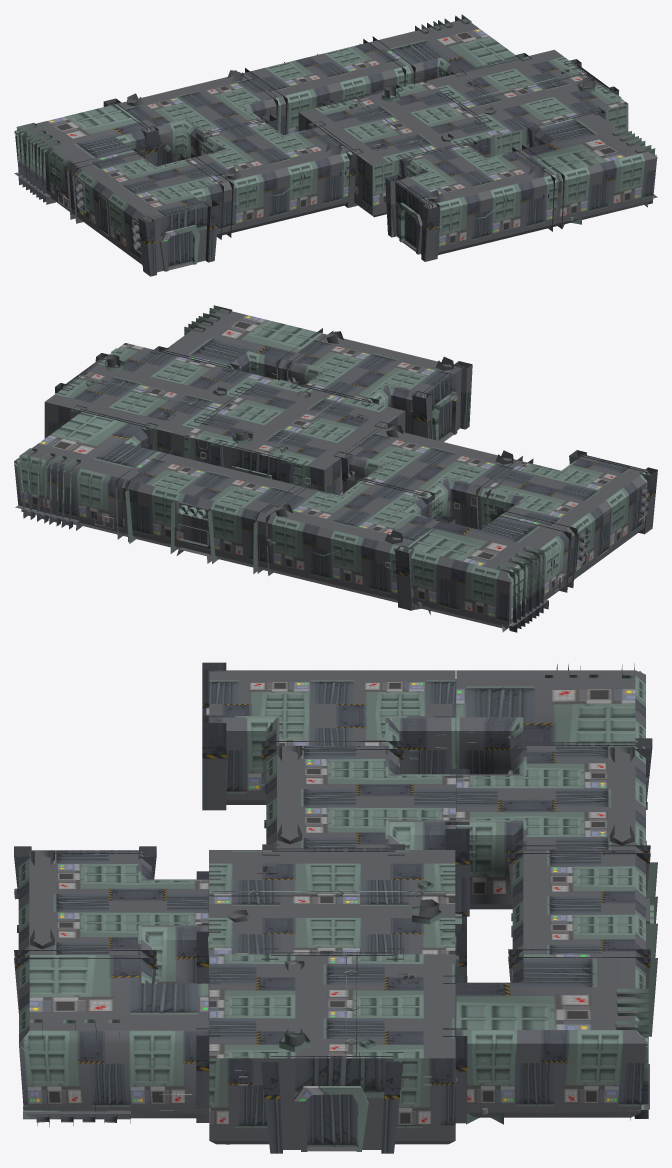
File: Combined_Mesh_root_scene__1_e4e4d5ea__zombies2_diffuse_06_4771cff4_c1f257.obj
3 renders of one model, top to bottom at view 1: azimuth 30°, elevation 25°; view 2: azimuth 150°, elevation 25°; view 3: azimuth 270°, elevation 25°, orthographic. The views are drawn at different scales.
Bounding box in the file's own units: 77.02 × 9.64 × 52.3.
159 materials, 159 textured.
